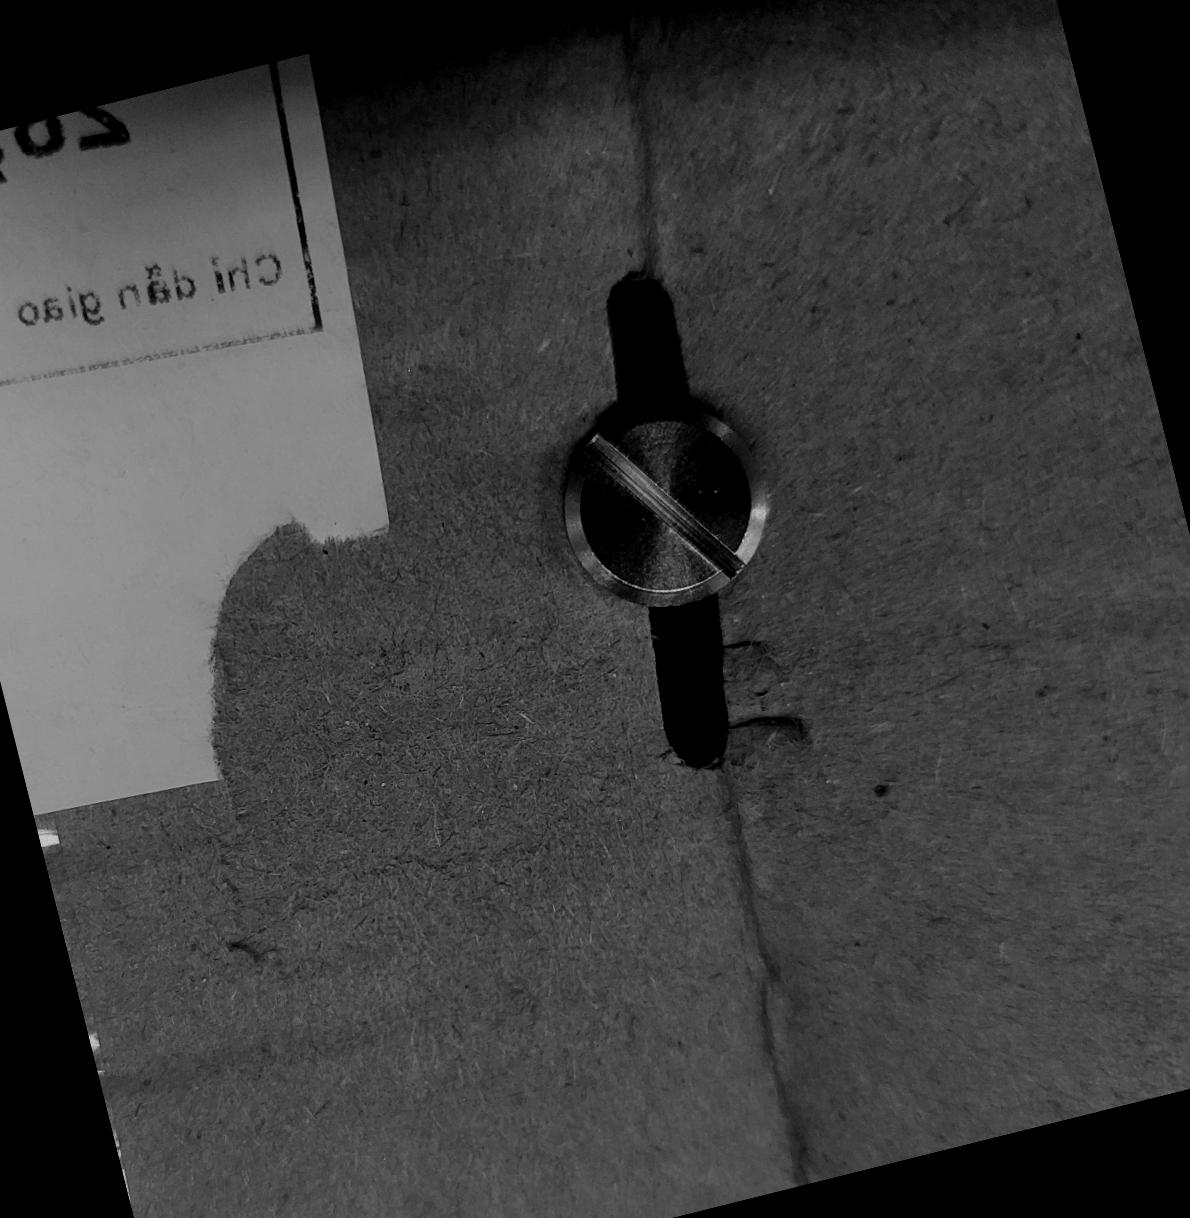screw: (544, 372, 791, 628)
